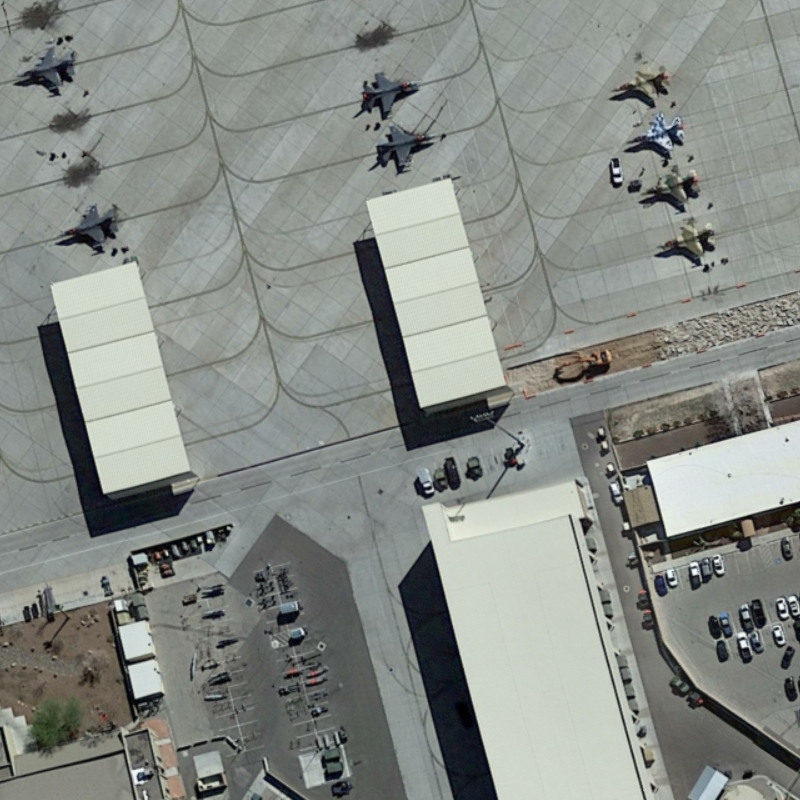A5: (370, 121, 443, 170), (52, 199, 122, 250), (650, 212, 719, 263), (10, 43, 79, 94), (619, 107, 689, 157), (607, 53, 674, 104), (636, 160, 703, 207), (360, 70, 422, 118)
